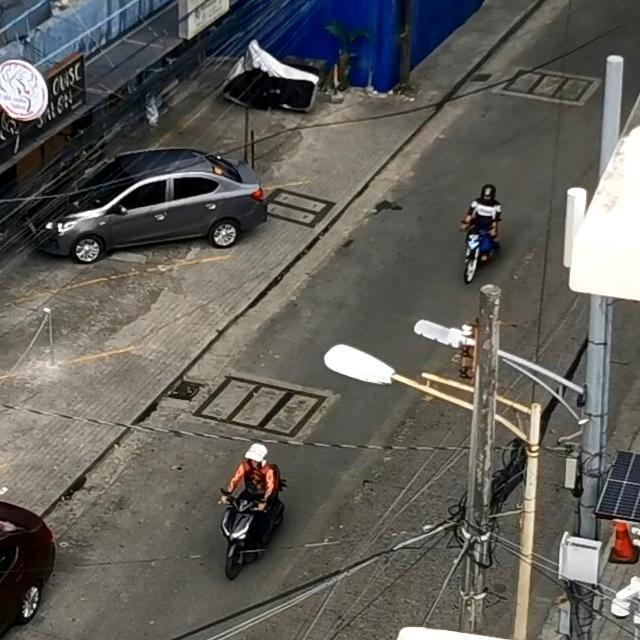Motorcycle: (219, 478, 284, 580), (461, 184, 502, 270)
